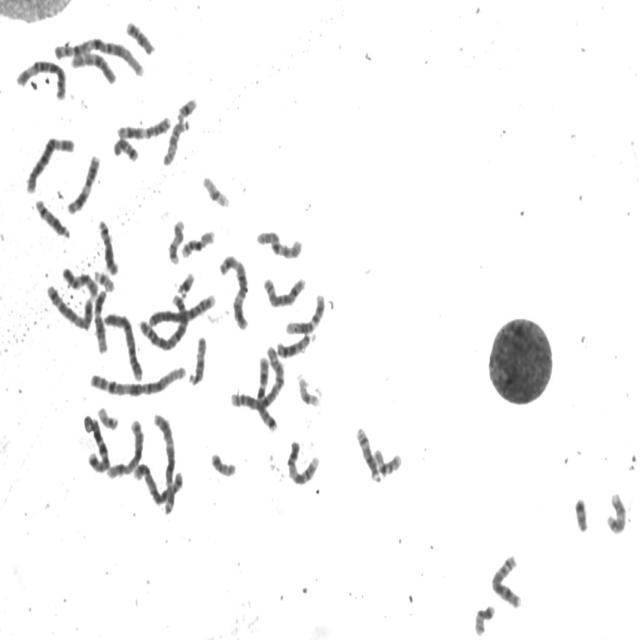A1: (51, 33, 148, 78), (88, 359, 188, 398)
A2: (227, 342, 287, 412), (137, 289, 191, 353)
A3: (150, 409, 178, 516), (217, 249, 252, 332)
B4: (102, 308, 144, 382), (145, 289, 217, 329)
B5: (44, 280, 95, 331), (131, 458, 185, 506)
C10: (68, 46, 119, 85), (254, 226, 305, 260)
C11: (64, 150, 102, 216), (114, 111, 173, 141)
C12: (284, 290, 327, 336), (92, 285, 110, 355)
C6: (23, 132, 76, 194), (13, 55, 68, 101)
C7: (254, 352, 279, 433), (82, 411, 112, 474)
C8: (489, 551, 524, 611), (261, 271, 308, 309)
C9: (284, 435, 322, 487), (60, 262, 100, 298)
D13: (95, 219, 121, 276), (274, 327, 319, 359)
D14: (350, 423, 383, 486), (33, 194, 72, 240)
D15: (160, 114, 192, 167), (186, 332, 209, 387)
E16: (179, 226, 217, 260), (373, 445, 402, 478)
E17: (605, 488, 629, 535), (166, 215, 187, 266)
E18: (123, 16, 157, 56), (111, 133, 141, 163)
F19: (200, 171, 232, 209), (296, 372, 322, 408)
F20: (472, 600, 498, 637), (208, 448, 238, 478)
G21: (174, 93, 199, 122), (175, 267, 197, 298)
G22: (95, 402, 120, 431), (92, 265, 116, 293)
X: (104, 415, 146, 480)
Y: (569, 496, 594, 538)
